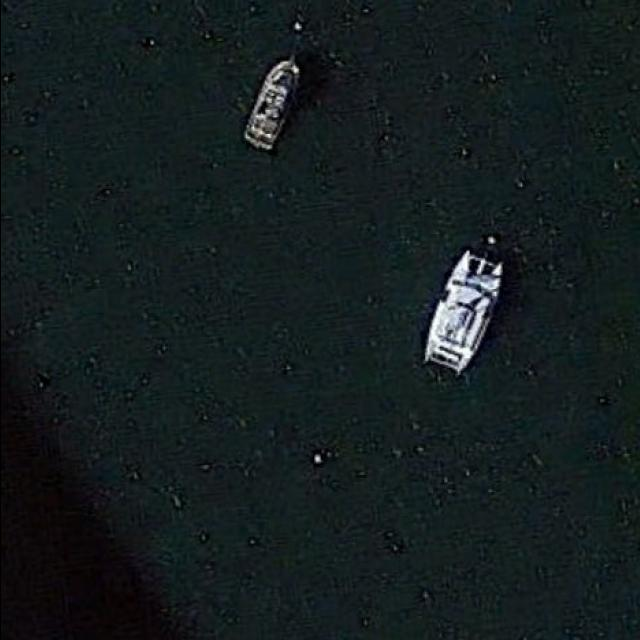ship: (422, 228, 508, 378), (244, 54, 302, 154)
